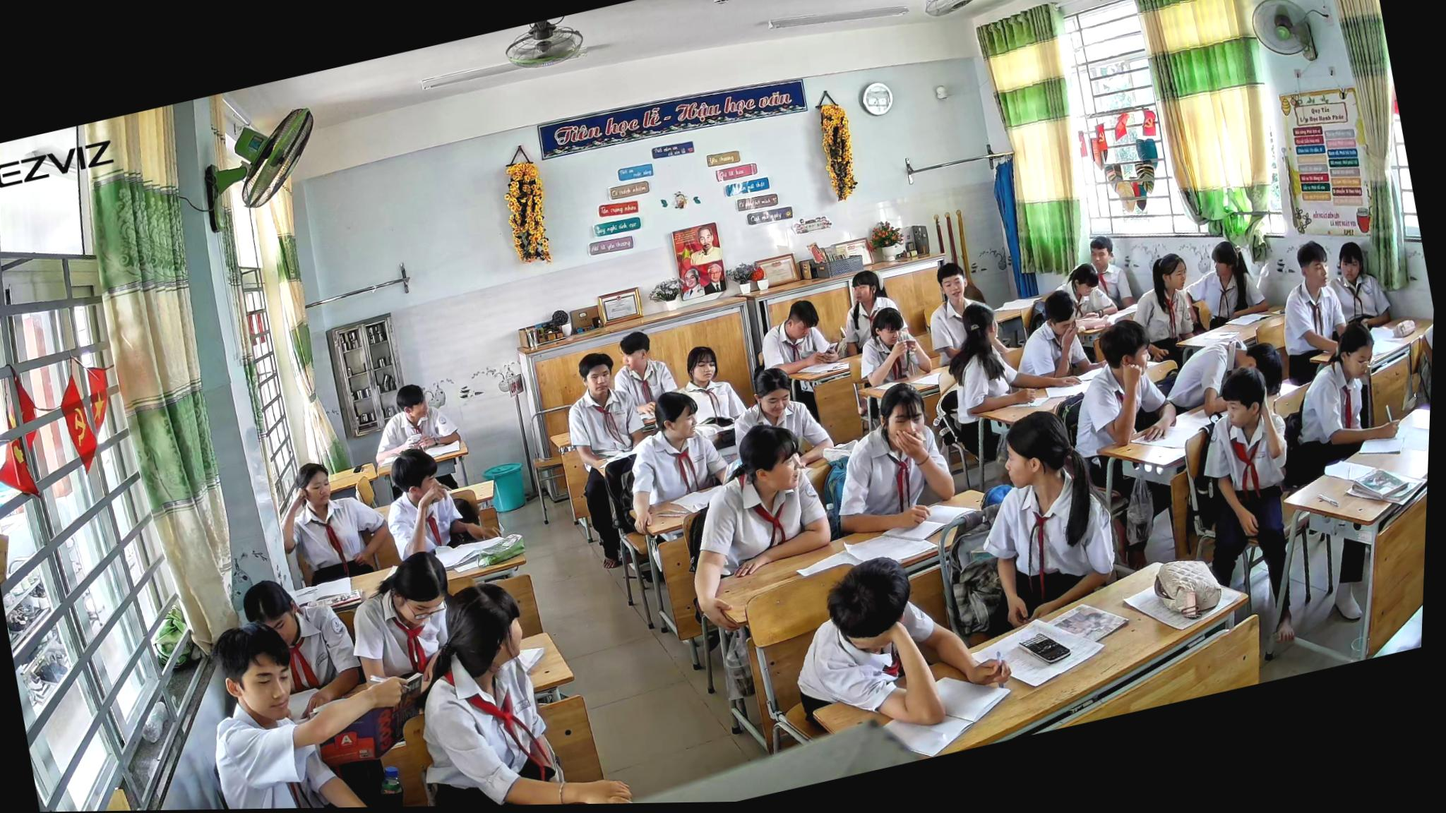person: (390, 556, 643, 807), (771, 530, 1025, 755), (178, 589, 434, 810), (956, 395, 1137, 634), (661, 410, 851, 635), (811, 377, 966, 548), (233, 565, 370, 727), (262, 446, 401, 595), (1049, 310, 1185, 460), (340, 543, 472, 696), (604, 378, 743, 520), (1179, 355, 1304, 501), (376, 432, 508, 569), (1281, 317, 1408, 457), (720, 353, 844, 487), (932, 291, 1044, 426), (552, 344, 654, 475), (1262, 236, 1355, 360), (1158, 327, 1288, 414), (997, 285, 1097, 392), (915, 254, 1006, 371), (1116, 248, 1204, 362), (363, 373, 465, 462), (601, 321, 686, 422), (748, 292, 844, 380), (1183, 233, 1271, 329), (827, 262, 914, 359), (848, 300, 938, 391), (1056, 228, 1140, 321), (1318, 233, 1393, 323), (1039, 257, 1121, 336)
